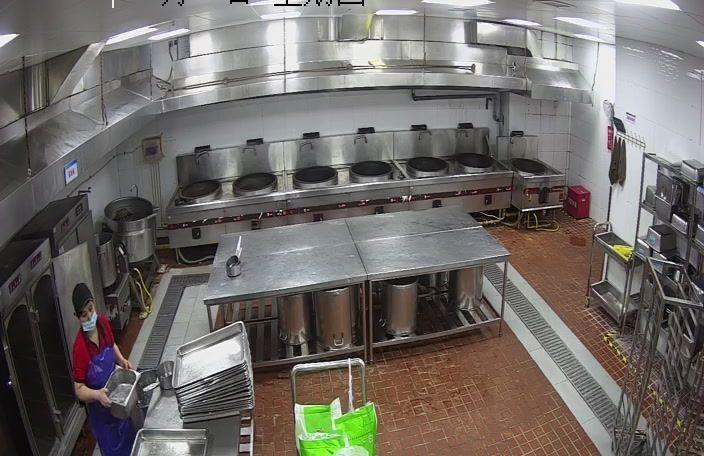mask: (84, 312, 96, 332)
